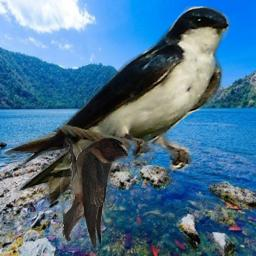Swallow: (1, 6, 231, 205), (60, 137, 128, 249)
